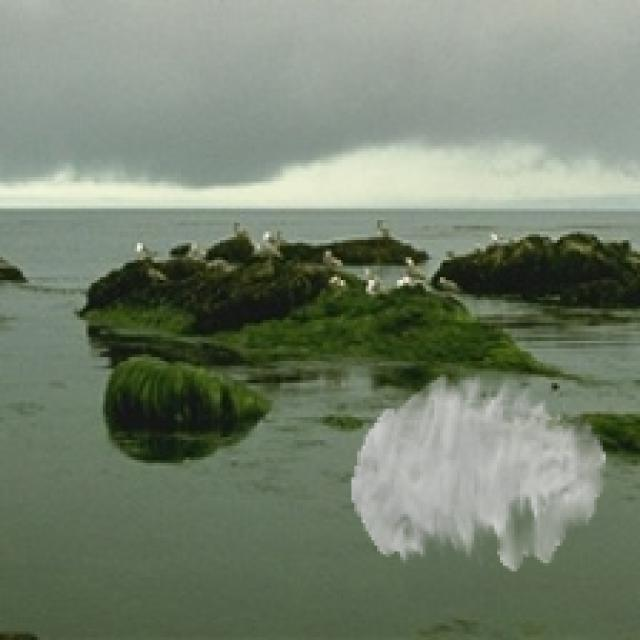smoke: (351, 372, 606, 572)
